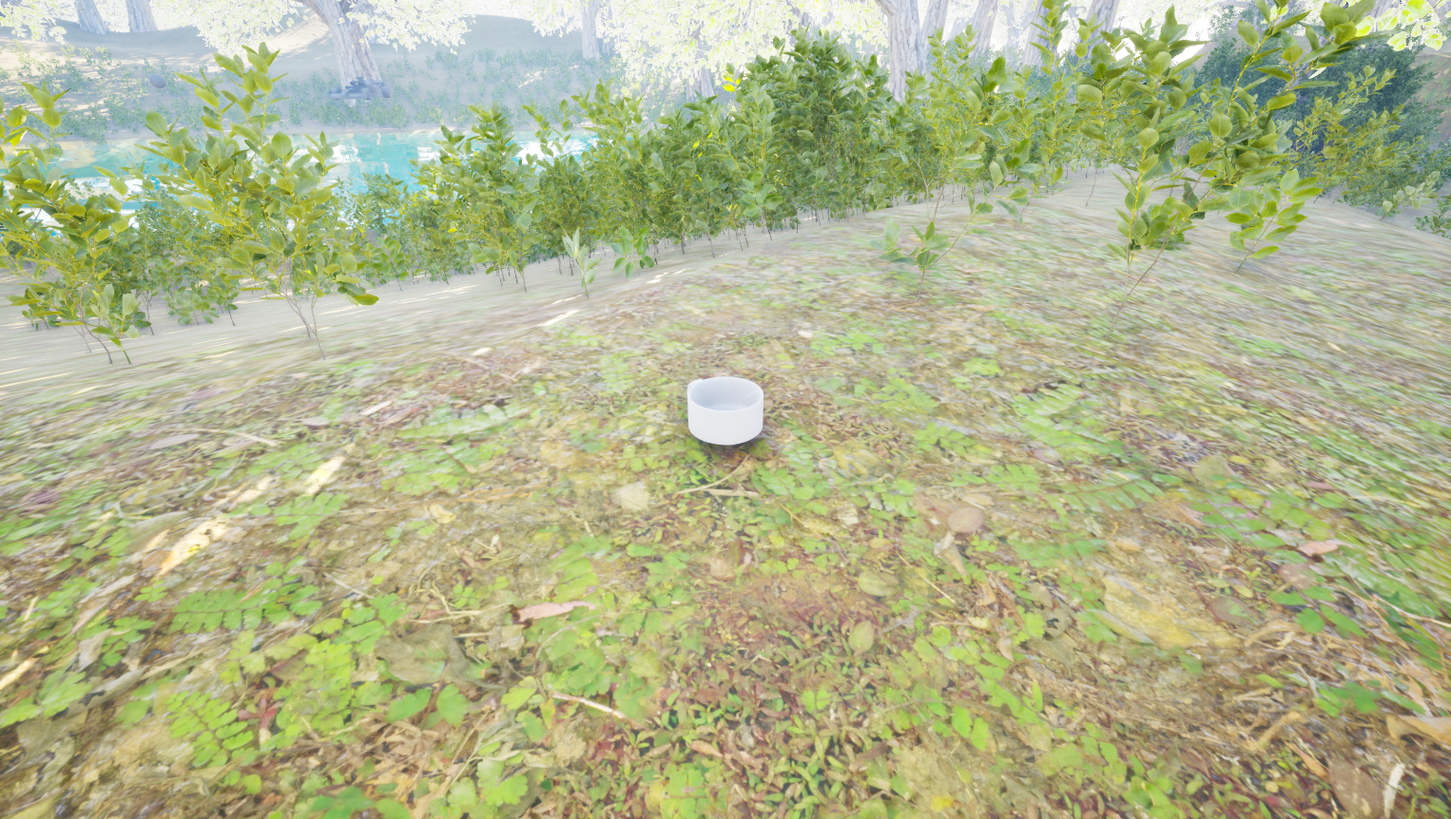Teacup: (684, 370, 770, 448)
